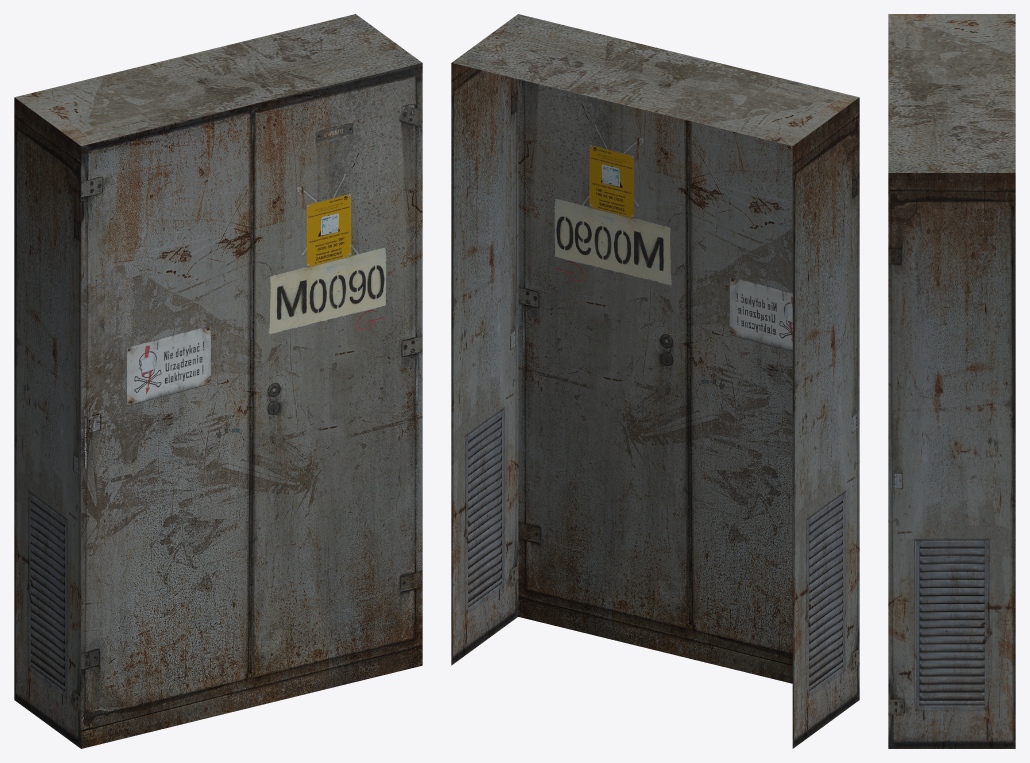
The model's file is Electric_box_v2.FBX.
3 views of the same model, side by side, from view 1: azimuth 30°, elevation 25°; view 2: azimuth 150°, elevation 25°; view 3: azimuth 270°, elevation 25° (orthographic). The views are drawn at different scales.
Parts seen in each view (by area): view 1: Electric_box_v2; view 2: Electric_box_v2; view 3: Electric_box_v2.
Boxes of the visible parts, x1,y1,x2,y2 form: Electric_box_v2: [14, 14, 422, 748]; Electric_box_v2: [451, 14, 859, 748]; Electric_box_v2: [888, 14, 1015, 748].
Bounding box in the file's own units: 1.18 × 1.99 × 0.3996.
